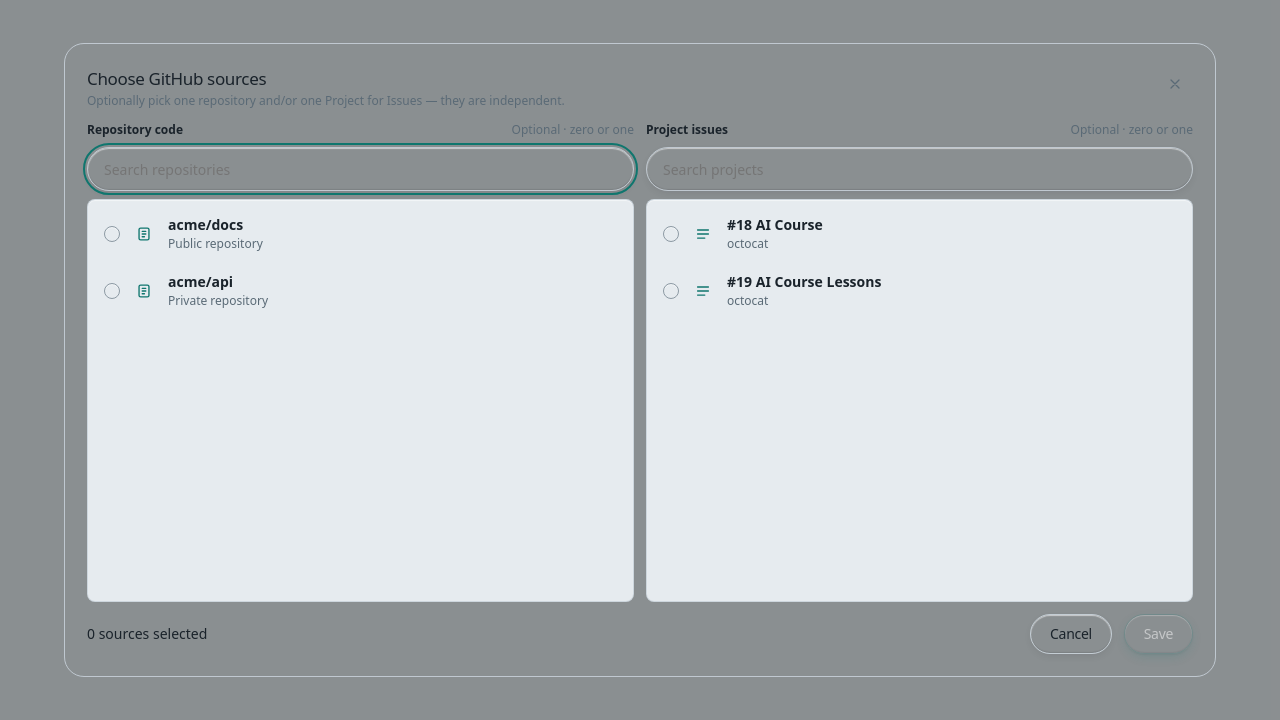
Scenario: GitHubPicker › filters repository and project lists independently
Check: the radio button labelled "acme/docs Public repository" is shown, box [104,226,120,242]
Type "api" into the search field labelled "Search repositories".
click(360, 169); type("api")  # box [87,147,634,191]
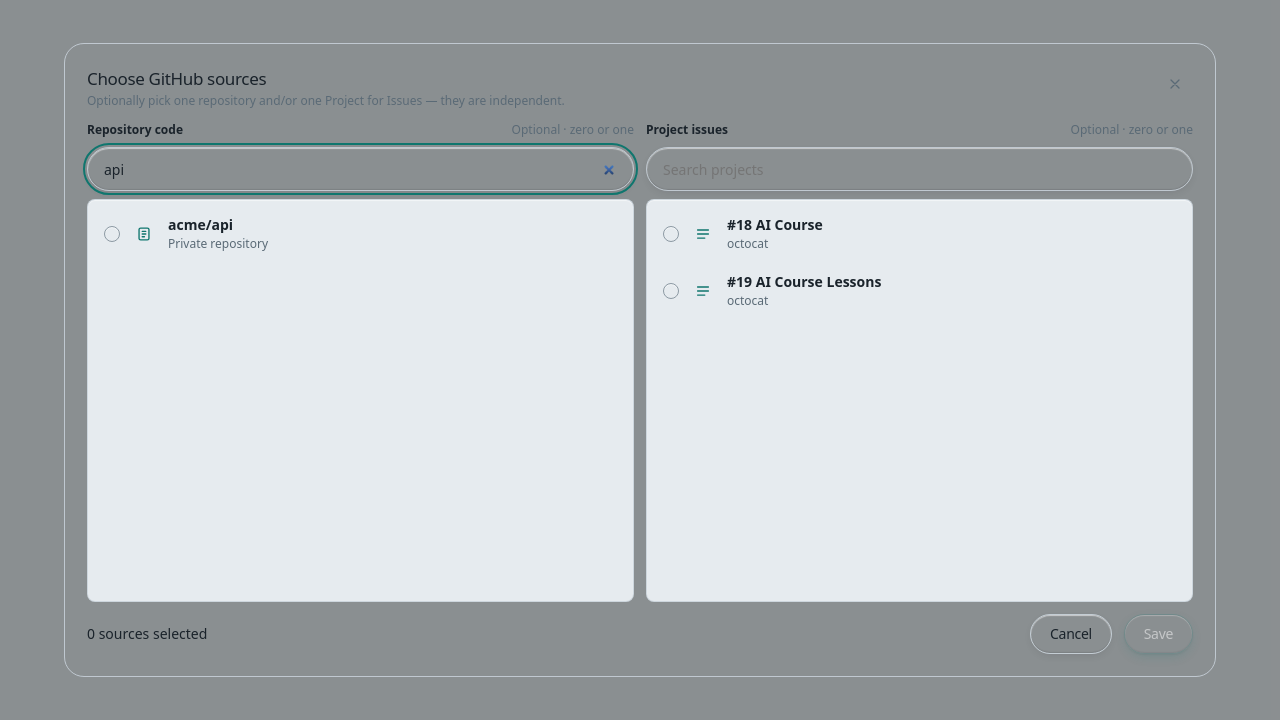
Check: the radio button labelled "acme/api Private repository" is shown, box [104,226,120,242]
Check: the text "acme/docs" is gone
Type "Lessons" into the search field labelled "Search projects".
click(920, 169); type("Lessons")  # box [646,147,1193,191]
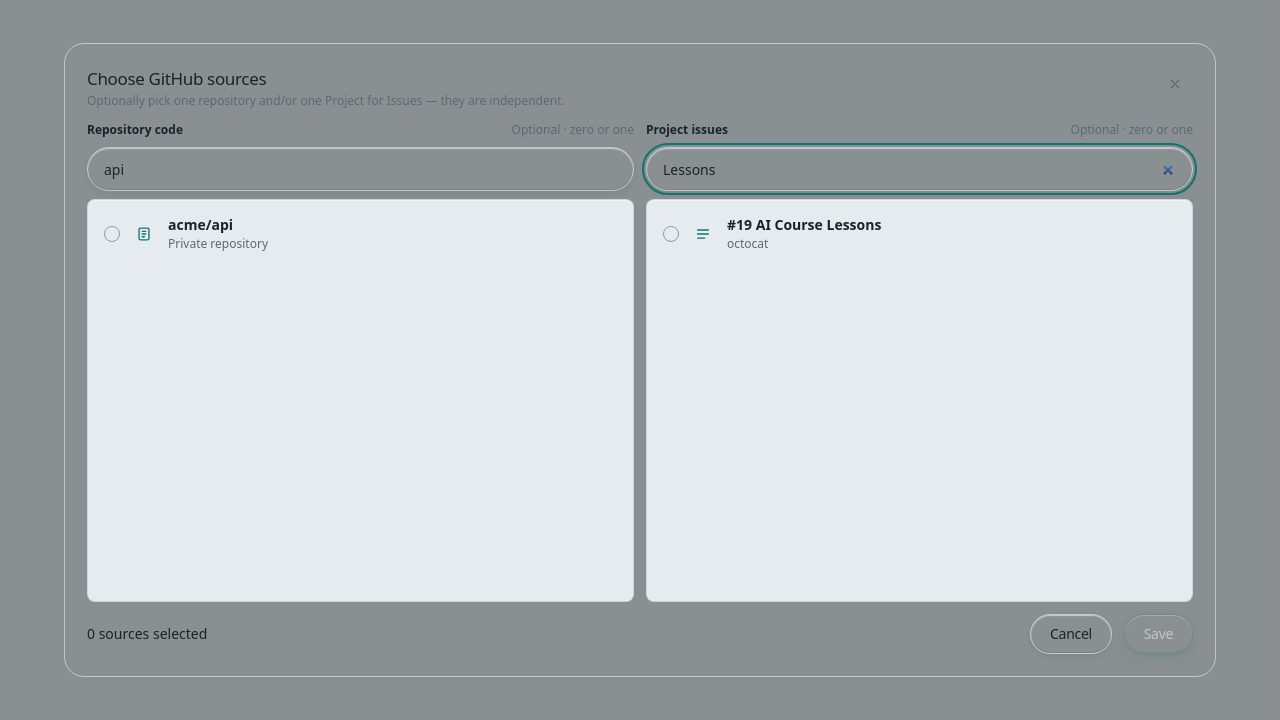
Check: the radio button labelled "#19 AI Course Lessons octocat" is shown, box [663,226,679,242]
Check: the text "#18 AI Course" is gone
